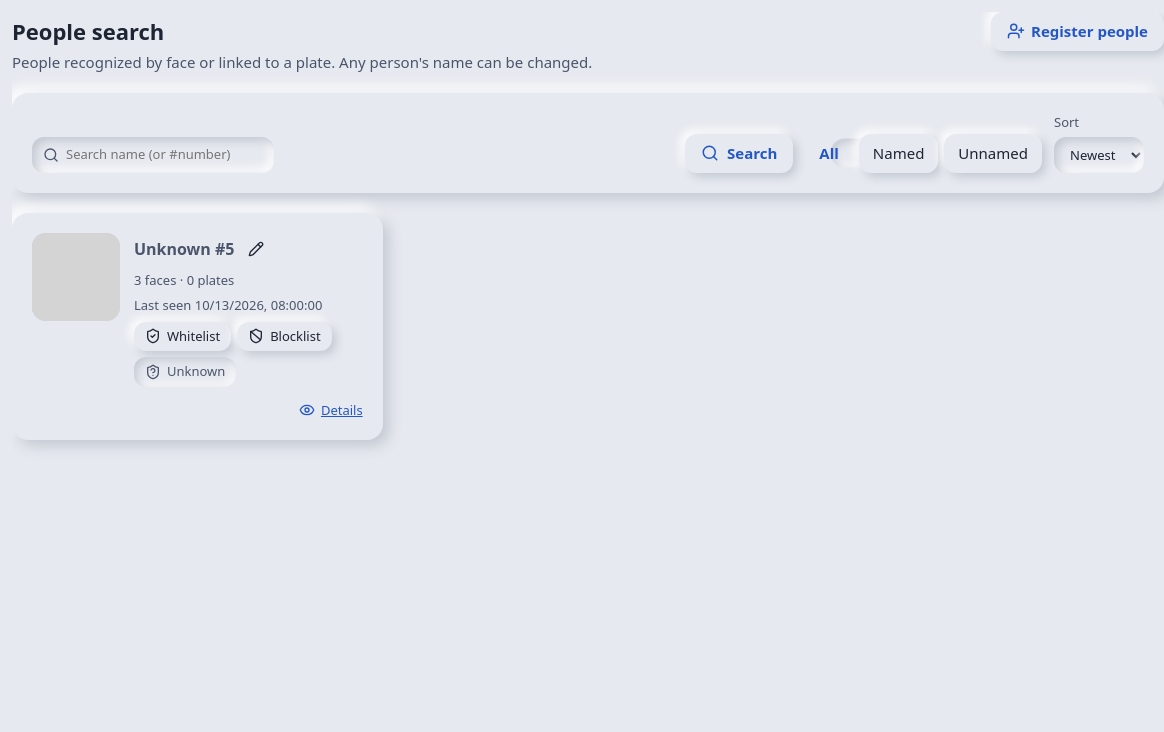
People › names an unknown person in place (saved only after the server confirmed)
Expected: the text "Unknown #5" is shown, [134,236,234,260]
Click the button named "Rename" at (256, 248), box [240,232,272,264]
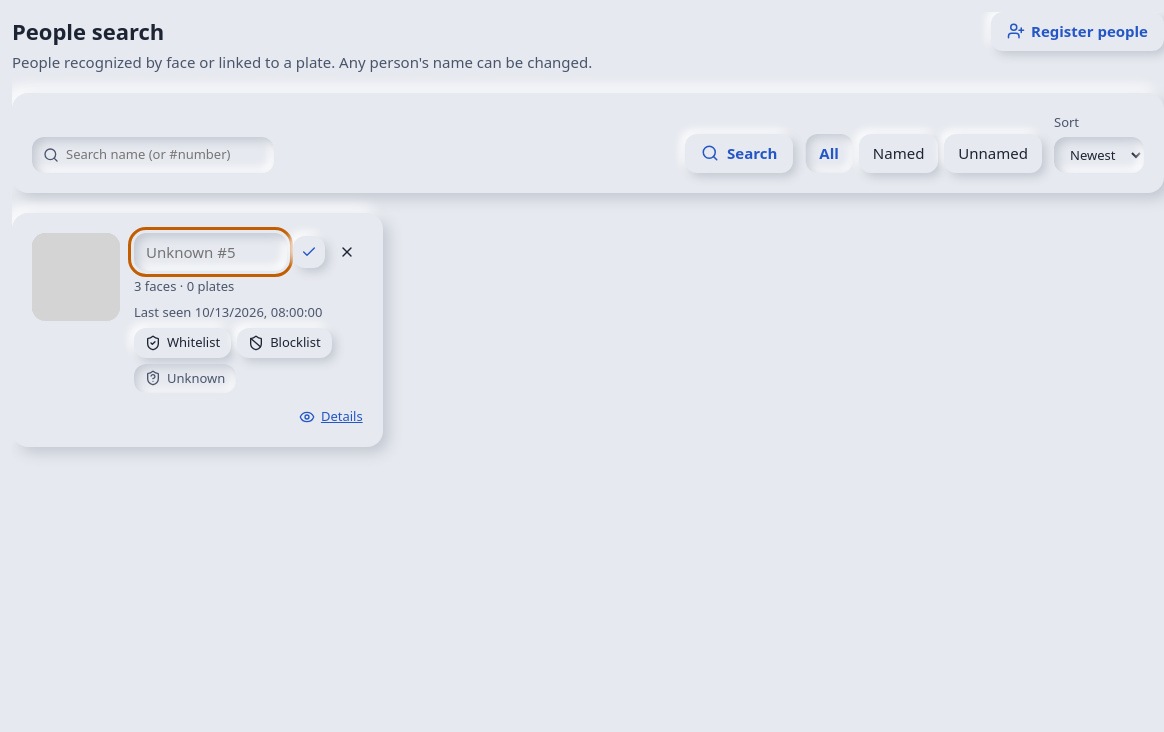
Type "Reza" into the field named "Name of Unknown #5" at (210, 252), box [134,232,287,271]
Then press Enter
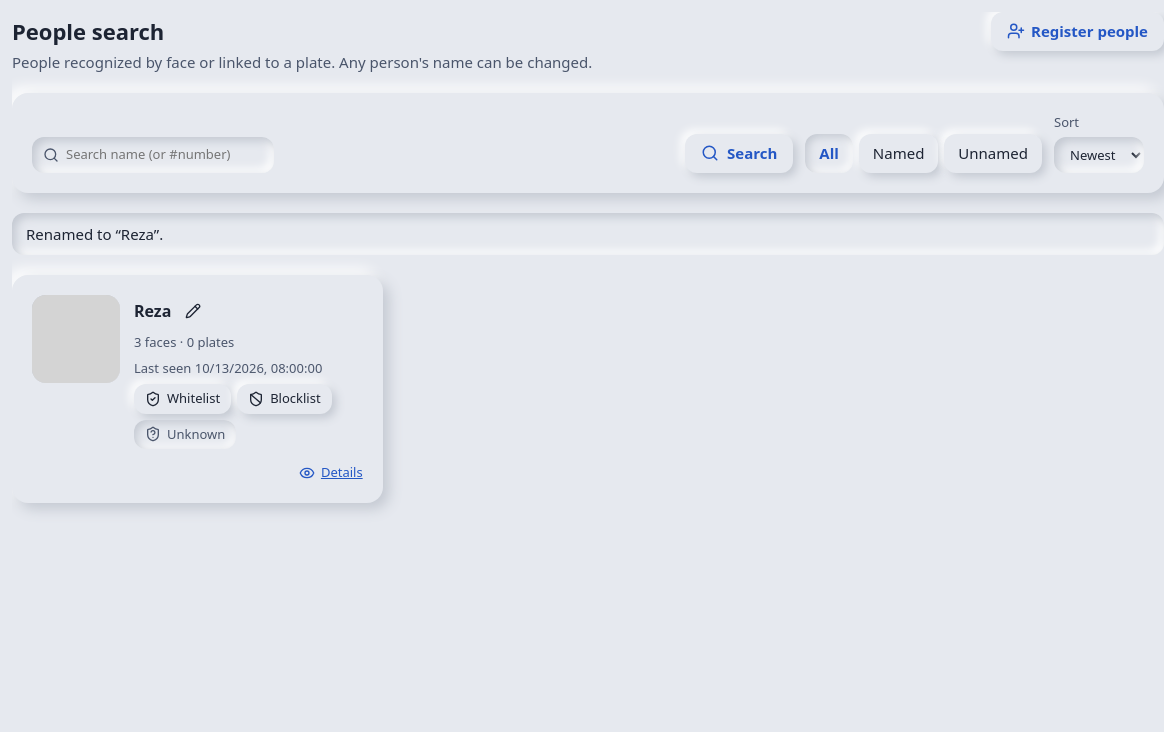
Result: the text "Reza" is shown at [134,299,171,323]
